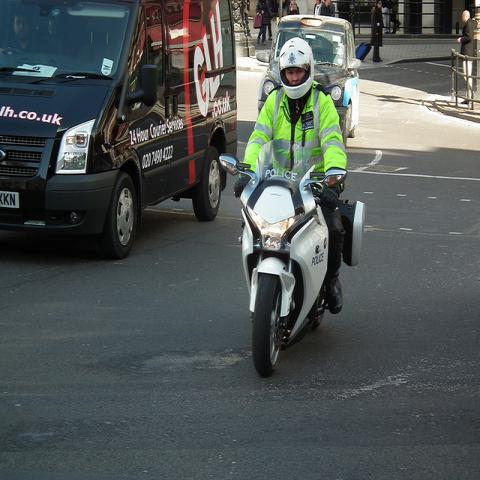car: (256, 15, 363, 150)
motorcycle: (218, 132, 349, 377)
truck: (0, 0, 243, 263)
